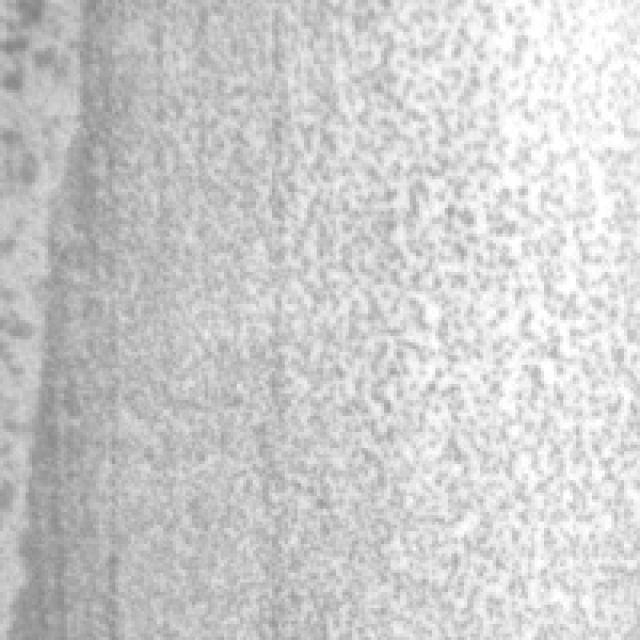pitted_surface: (109, 0, 637, 637)
